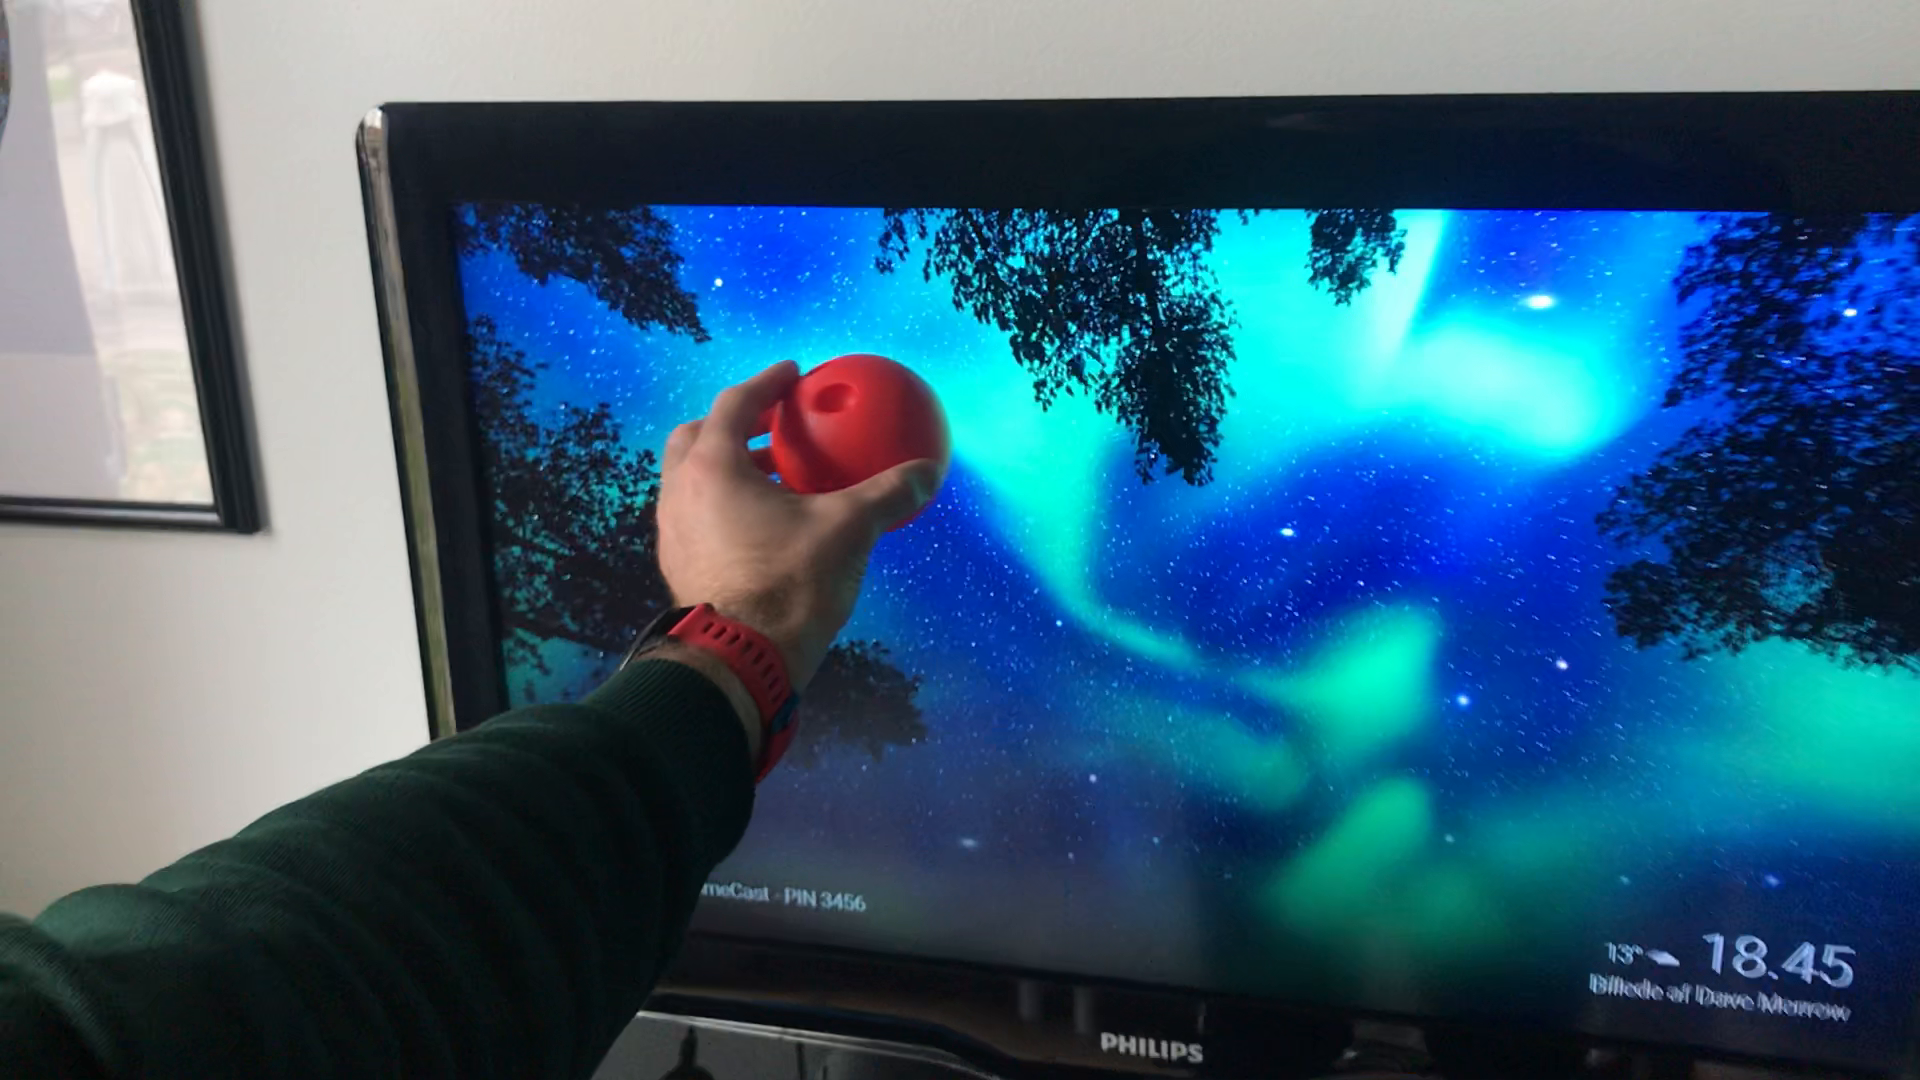Ball: (770, 353, 949, 531)
